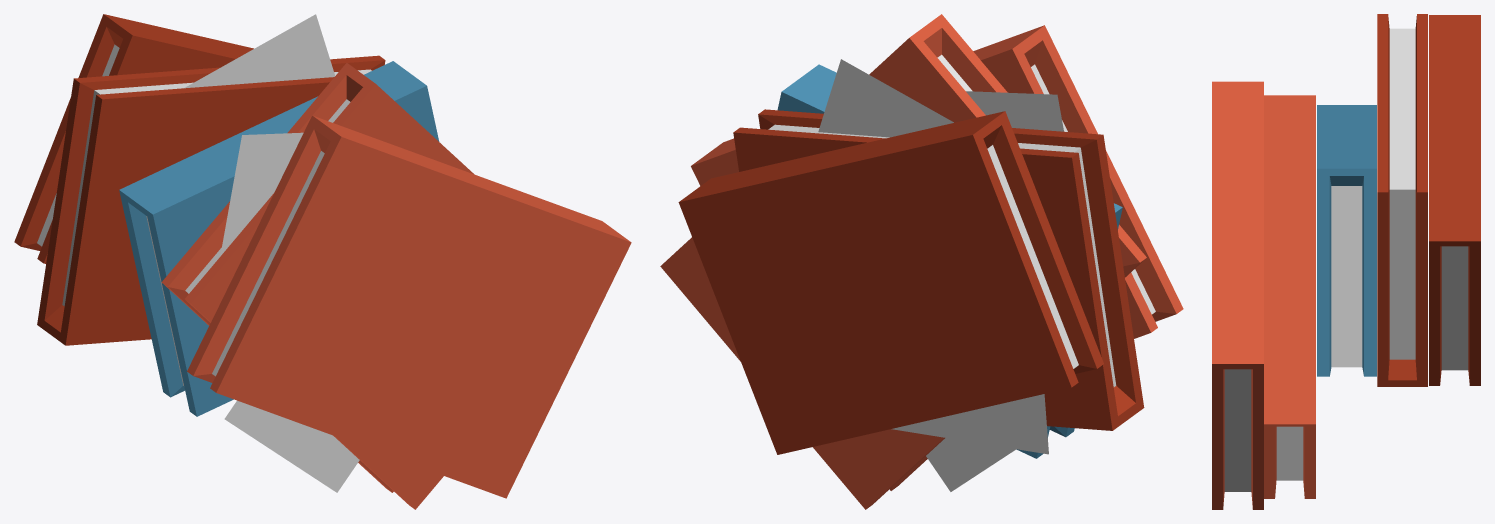
File: Book_Pile_1__alt_.glb
3 views of the same model, side by side, from view 1: azimuth 30°, elevation 25°; view 2: azimuth 150°, elevation 25°; view 3: azimuth 270°, elevation 25° (orthographic). The views are drawn at different scales.
Parts seen in each view (by area): view 1: Book Pile 1 (alt); view 2: Book Pile 1 (alt); view 3: Book Pile 1 (alt).
Boxes of the visible parts, bbox=[...] form: Book Pile 1 (alt): bbox=[14, 14, 631, 509]; Book Pile 1 (alt): bbox=[660, 14, 1183, 509]; Book Pile 1 (alt): bbox=[1212, 14, 1480, 509].
Bounding box in the file's own units: 0.3761 × 0.3441 × 0.2087.
1 material, 1 textured.
